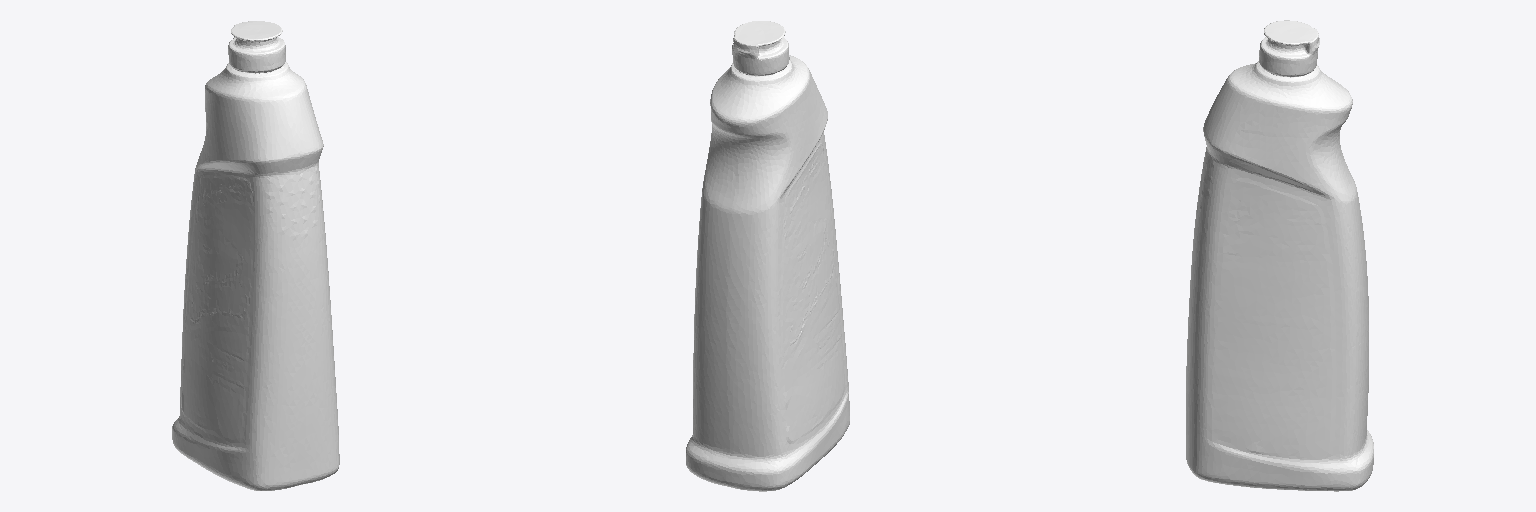
URDF robot description (bleach_cleanser):
<robot name="bleach_cleanser">
    <link name="base_link">
        <visual>
            <origin xyz="-0.0 -0.0 -0.0" rpy="0.0 0.0 0.0" />
            <geometry>
                <mesh filename="bleach_cleanser/textured.obj" scale="1 1 1" />
            </geometry>
            <material name="texture">
                <color rgba="1.0 1.0 1.0 1.0" />
            </material>
        </visual>
        <collision>
            <origin xyz="-0.0 -0.0 -0.0" rpy="0.0 0.0 0.0" />
            <geometry>
                <mesh filename="bleach_cleanser/textured_coacd_0.stl" scale="1 1 1" />
            </geometry>
        </collision>
        <collision>
            <origin xyz="-0.0 -0.0 -0.0" rpy="0.0 0.0 0.0" />
            <geometry>
                <mesh filename="bleach_cleanser/textured_coacd_1.stl" scale="1 1 1" />
            </geometry>
        </collision>
        <collision>
            <origin xyz="-0.0 -0.0 -0.0" rpy="0.0 0.0 0.0" />
            <geometry>
                <mesh filename="bleach_cleanser/textured_coacd_2.stl" scale="1 1 1" />
            </geometry>
        </collision>
        <collision>
            <origin xyz="-0.0 -0.0 -0.0" rpy="0.0 0.0 0.0" />
            <geometry>
                <mesh filename="bleach_cleanser/textured_coacd_3.stl" scale="1 1 1" />
            </geometry>
        </collision>
        <inertial>
            <mass value="1.131" />
            <inertia ixx="1e-3" ixy="0.0" ixz="0.0" iyy="1e-3" iyz="0.0" izz="1e-3" />
        </inertial>
    </link>
</robot>

--- What the picture shows (computed from the rendered views, not written in the file) ---
The picture shows the robot from 3 angles, left to right: view 1: azimuth 30°, elevation 25°; view 2: azimuth 150°, elevation 25°; view 3: azimuth 270°, elevation 25°; orthographic projection.
Robot: bleach_cleanser — 1 links, 0 joints (none); root link base_link; default pose: every joint at zero.
Links seen in each view (by area): view 1: base_link; view 2: base_link; view 3: base_link.
Boxes of the visible links, bbox=[...] form: base_link: bbox=[172, 21, 339, 490]; base_link: bbox=[686, 21, 849, 491]; base_link: bbox=[1186, 20, 1373, 491].
Size in the robot's own frame: 0.0677 by 0.0983 by 0.2542 metres.
Meshes: 1 distinct files referenced, 1 mesh visuals loaded (1 OBJ).